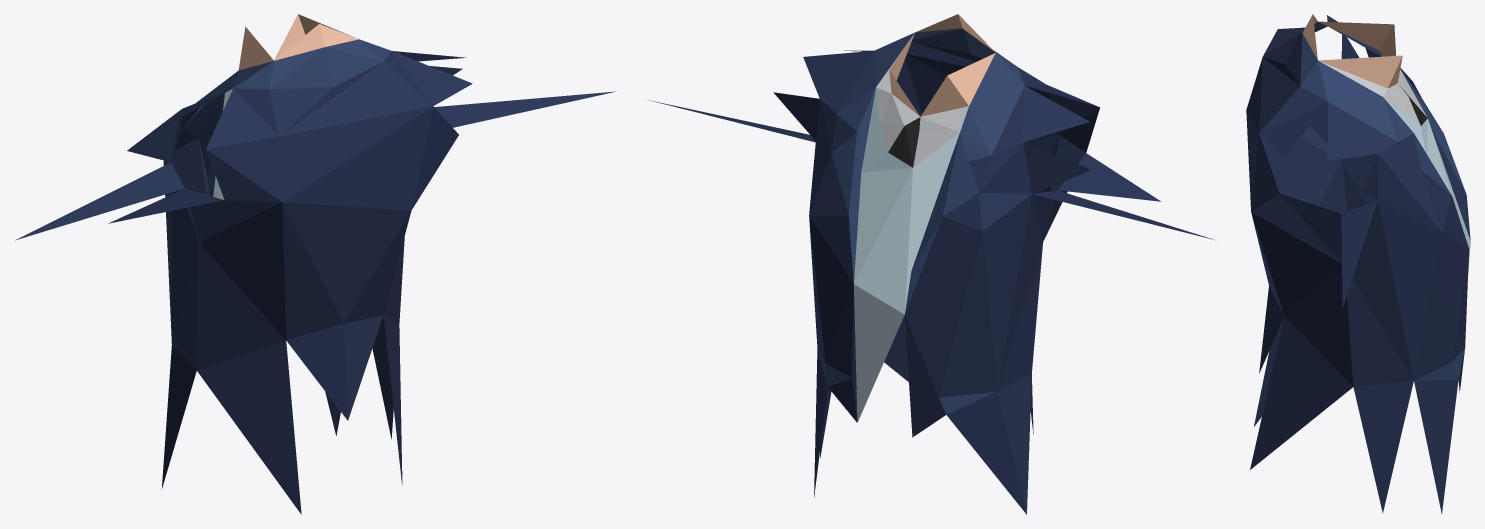
The model's file is Torso_Lo.obj.
The picture shows the model from 3 angles, left to right: view 1: azimuth 30°, elevation 25°; view 2: azimuth 150°, elevation 25°; view 3: azimuth 270°, elevation 25°; orthographic projection. The views are drawn at different scales.
Size of the model in its own units: 1.04 by 0.7942 by 0.3499.
Materials: 1 (1 with a texture image).
